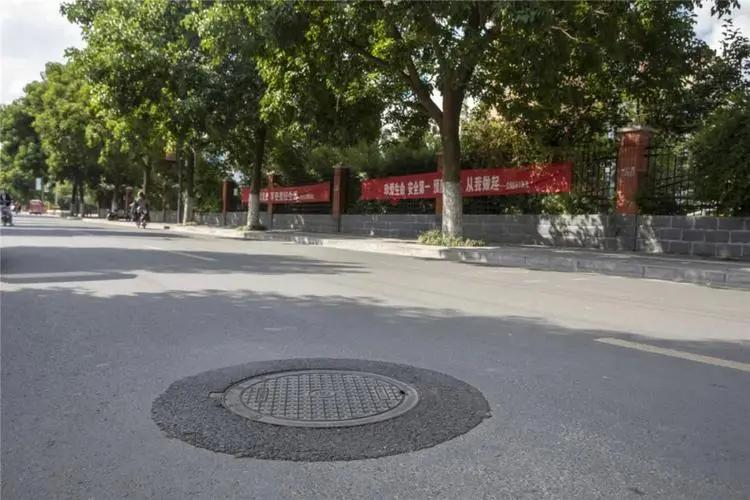wellcover: (189, 362, 432, 441)
